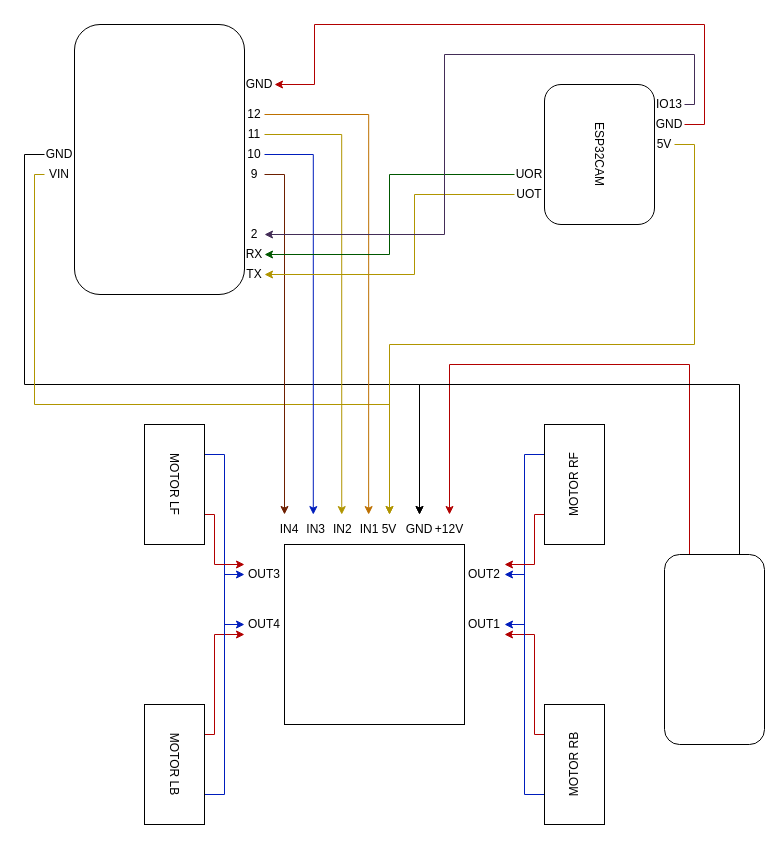
Some shapes in this 782 by 842 pixel diagram are drawn without their labels. The shapes that lost their labels are listed below. From the top down, each one's box as (x1, y1, x2, y2) in pixels, then its label:
(74, 24, 244, 294): ARDUINO UNO
(284, 544, 464, 724): MOTOR DRIVER L298N
(664, 554, 764, 744): BATTERY
